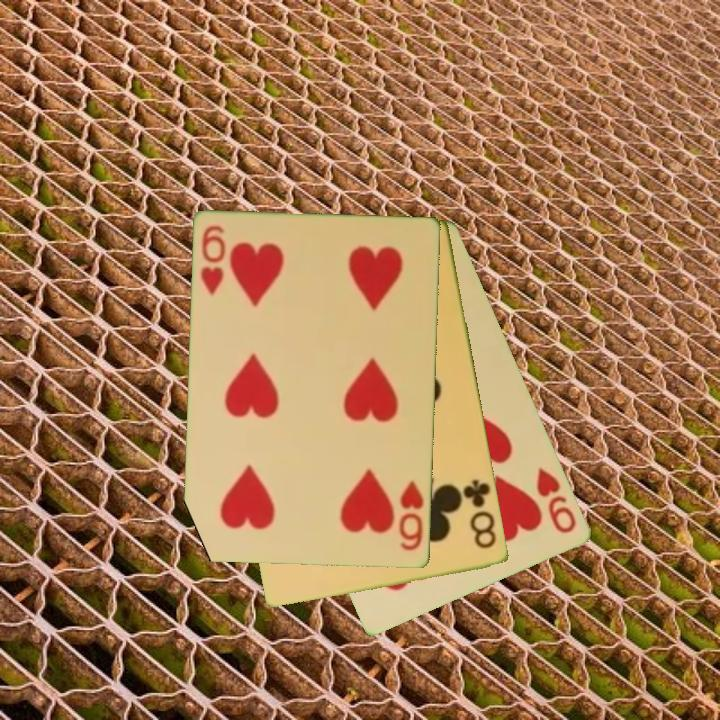6h: (395, 477, 428, 554), (198, 222, 229, 299)
8c: (460, 476, 500, 552)
9h: (533, 464, 580, 537)
